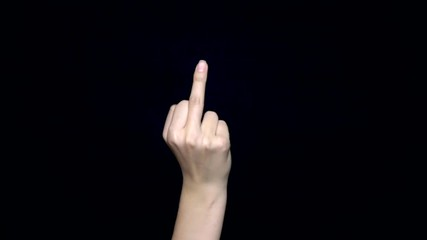finger: (183, 57, 211, 125), (168, 101, 190, 127), (199, 109, 219, 130), (214, 120, 235, 135)
